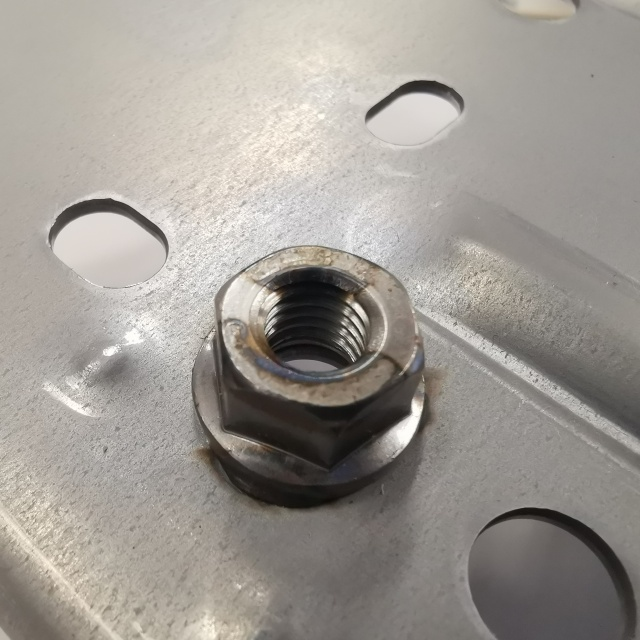dog: (179, 239, 434, 513)
